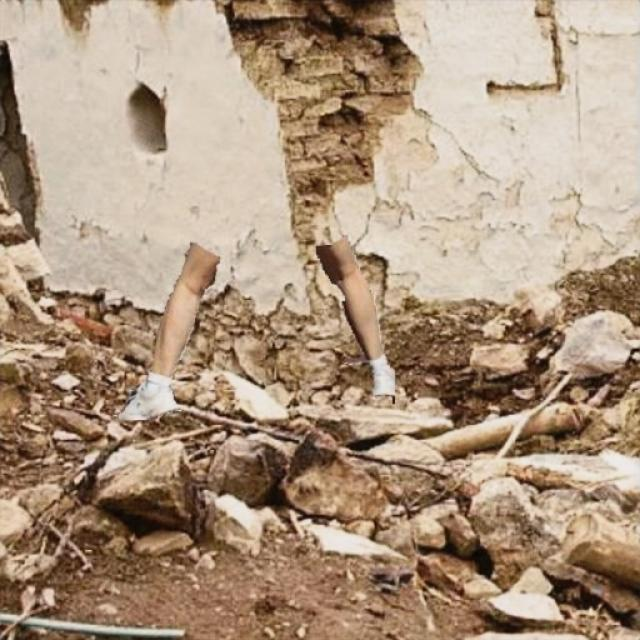Person in Rubble: (119, 235, 394, 419)
